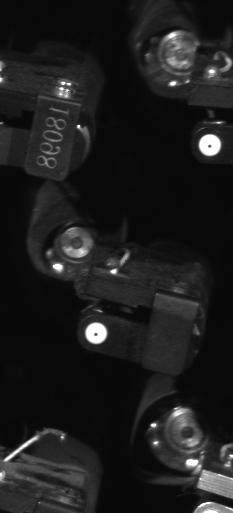fiber: (192, 127, 226, 161), (81, 315, 109, 348)
